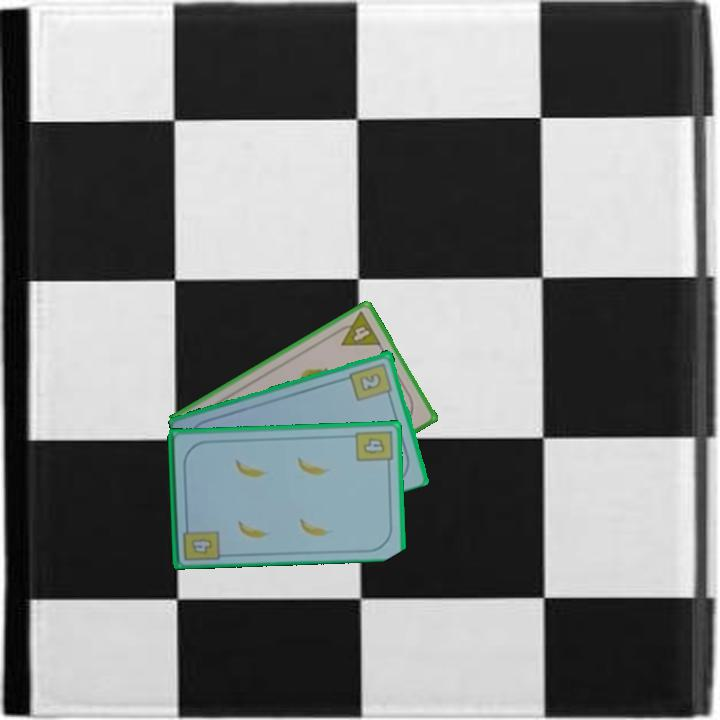2b: (347, 359, 395, 403)
4b: (179, 519, 222, 563), (352, 427, 395, 470)
4p: (331, 308, 384, 349)
